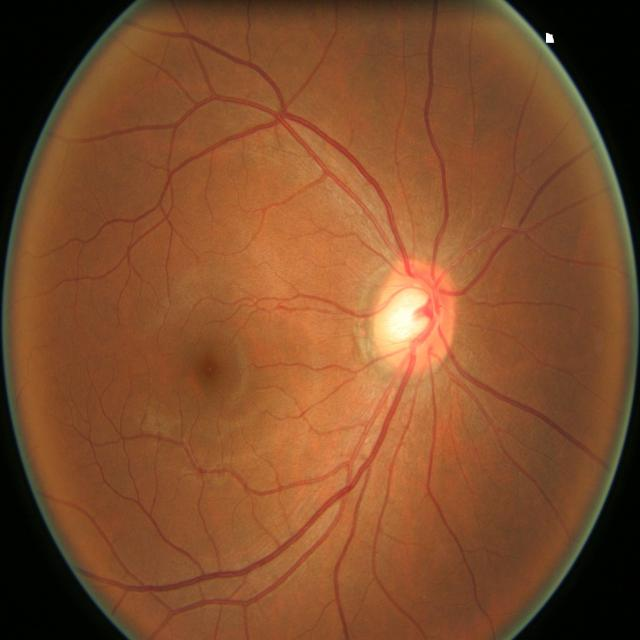OC: (386, 284, 438, 346)
OD: (373, 262, 459, 375)
